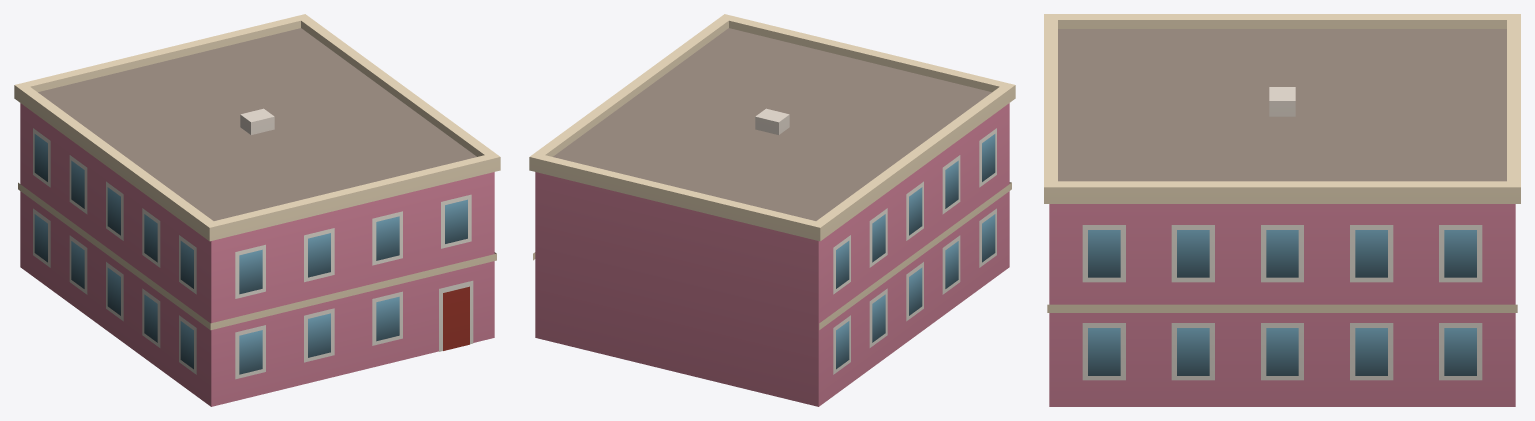
Rendered from boylston_s17_far.glb.
The picture shows the model from 3 angles, left to right: view 1: azimuth 30°, elevation 25°; view 2: azimuth 150°, elevation 25°; view 3: azimuth 270°, elevation 25°; orthographic projection. The views are drawn at different scales.
Visible parts, largest first — view 1: boylston_s17_far; view 2: boylston_s17_far; view 3: boylston_s17_far.
Part boxes in pixels (<box>): boylston_s17_far: <box>14,14,500,406</box>; boylston_s17_far: <box>529,14,1015,406</box>; boylston_s17_far: <box>1044,14,1520,406</box>.
Size of the model in its own units: 12.32 by 7.57 by 14.32.
Materials: 1 (1 with a texture image).
